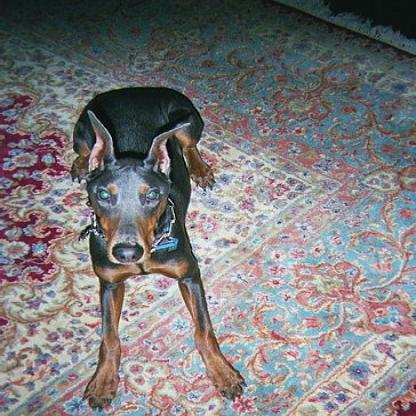Doberman: (71, 84, 247, 411)
